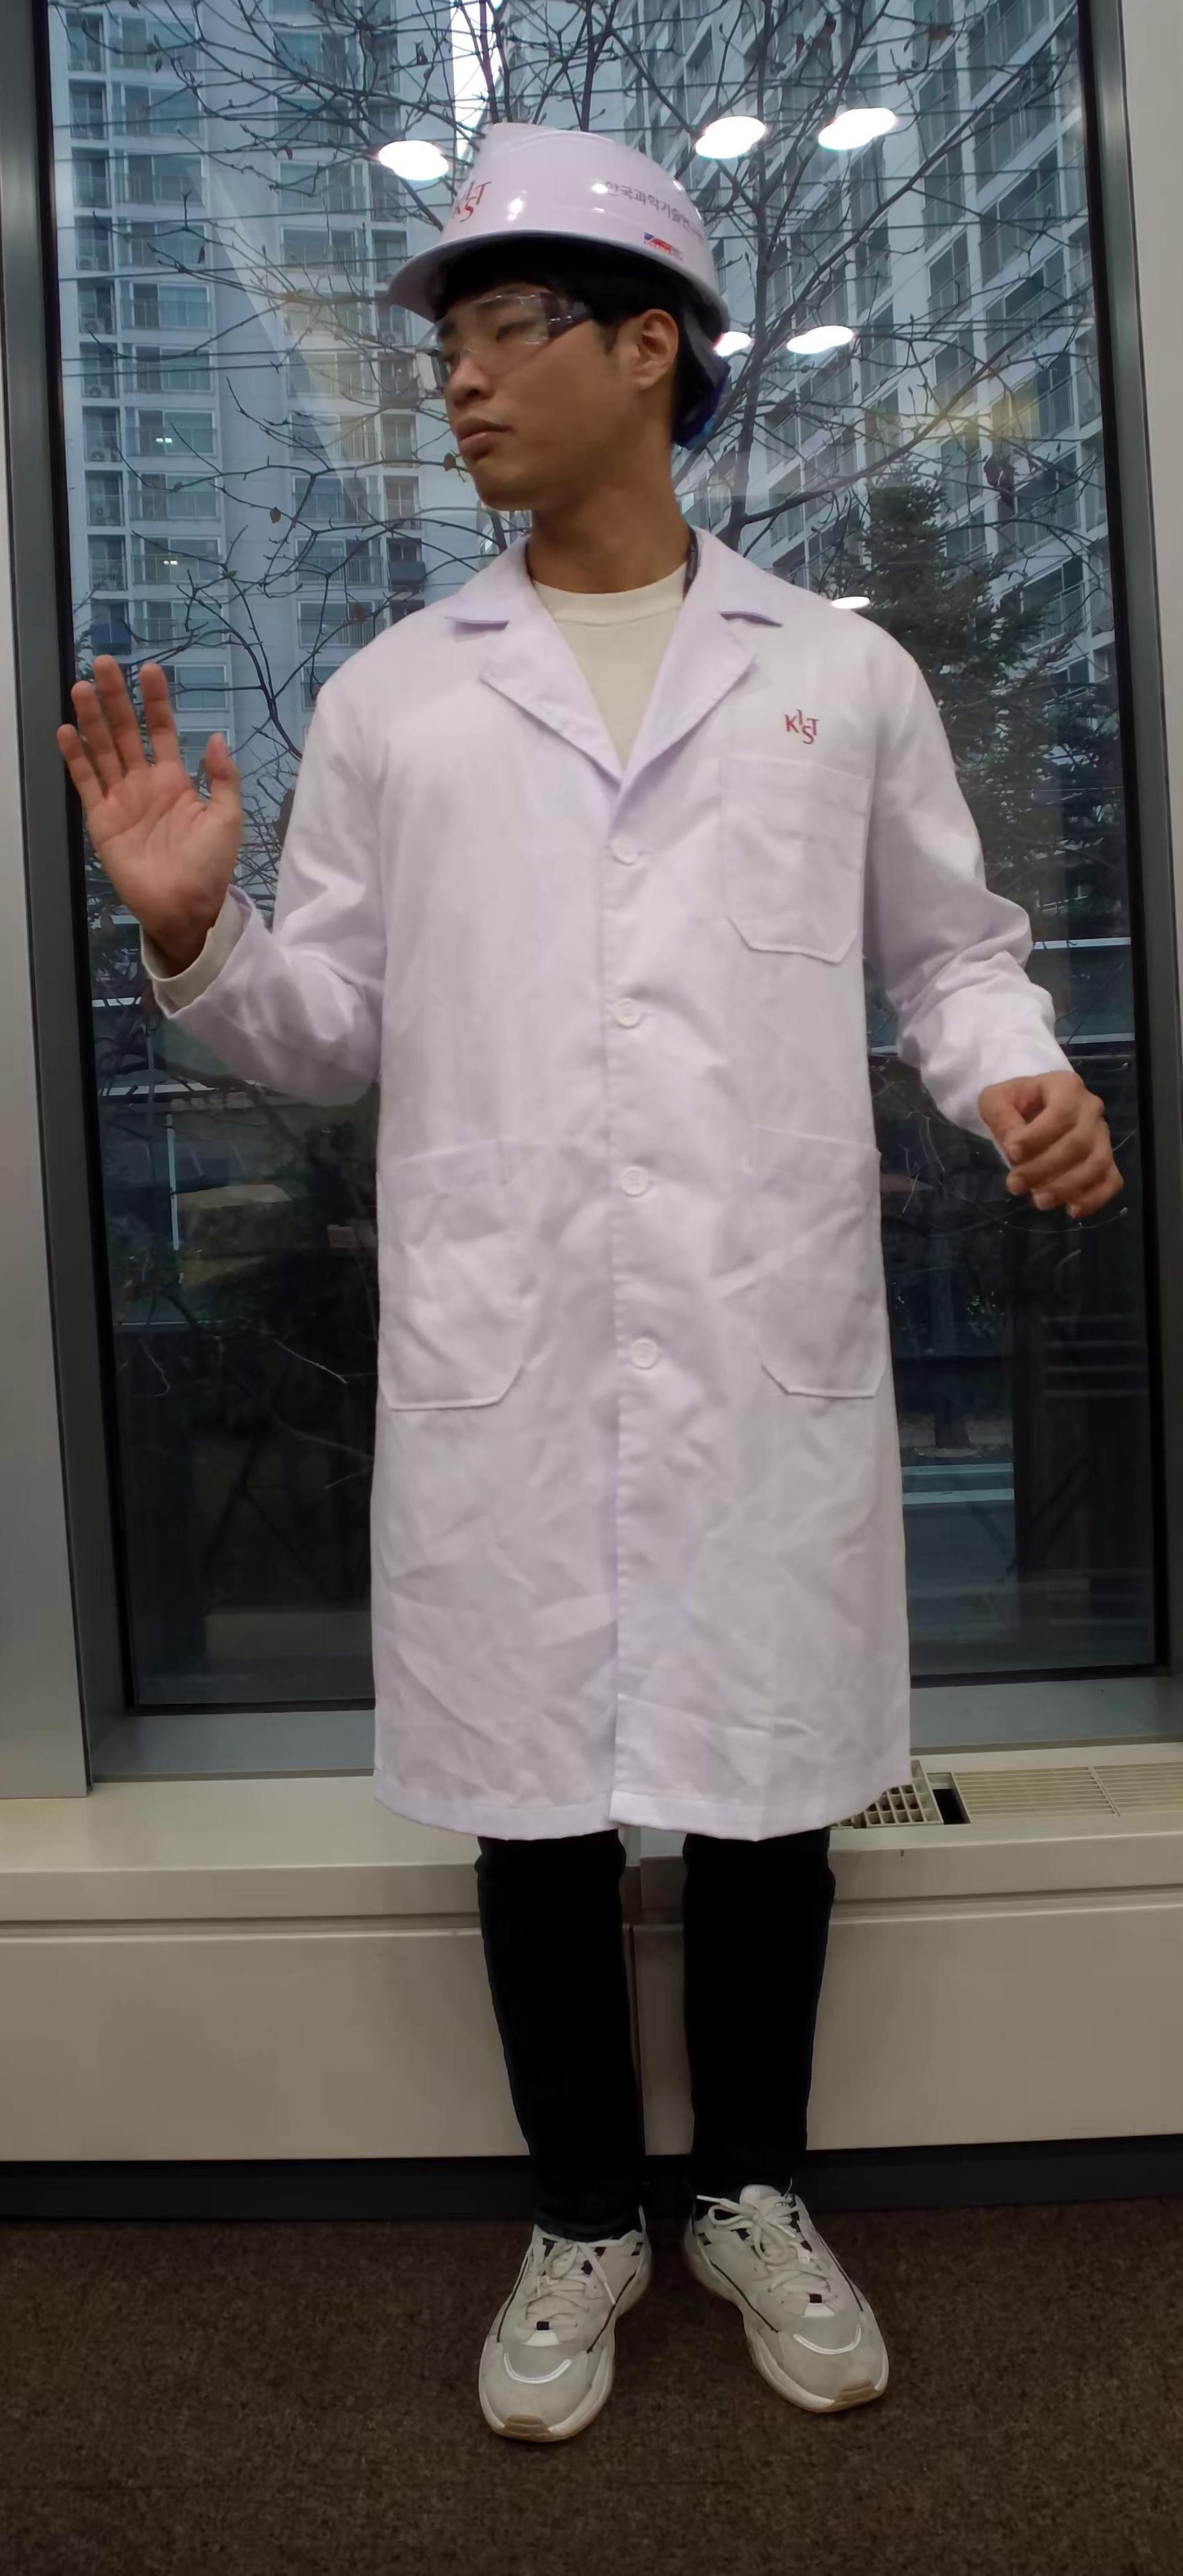lab_coat: (297, 649, 902, 1810)
